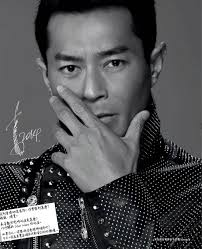asian_male: (43, 1, 148, 143)
